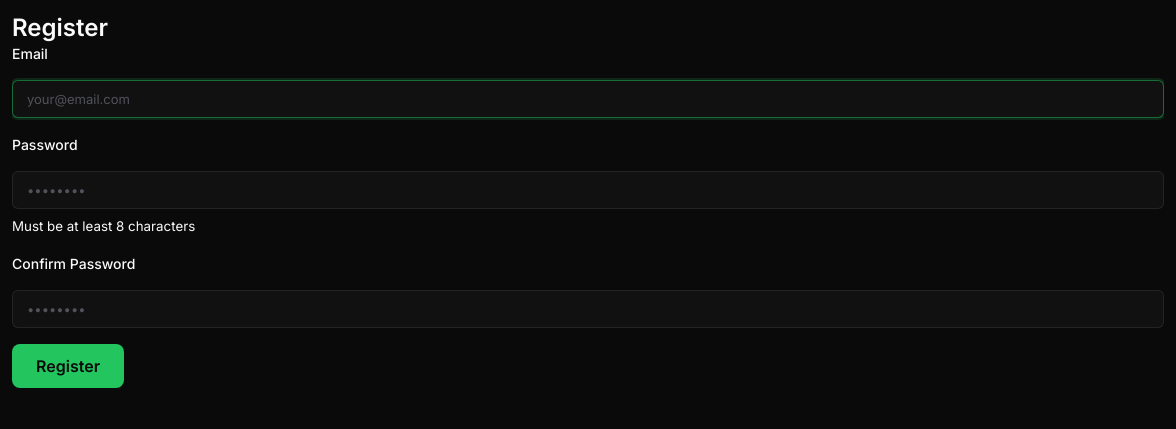
Test case: explains and focuses mismatched registration passwords without submitting them
The image size is (1176, 429).
In the field labelled "Email": (588, 99) 12,80 -> 1164,118, type "writer@example.com"
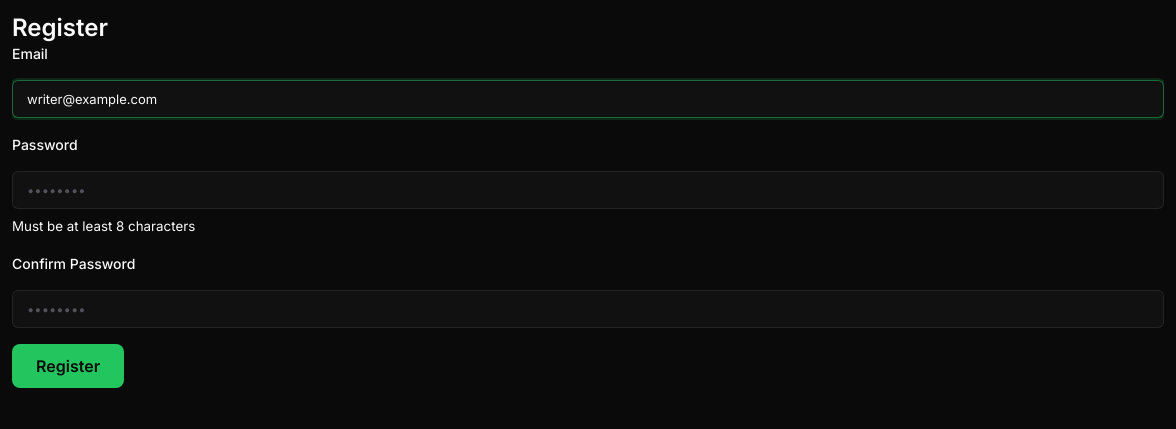
In the password field labelled "Password": (588, 190) 12,171 -> 1164,209, type "test-password"
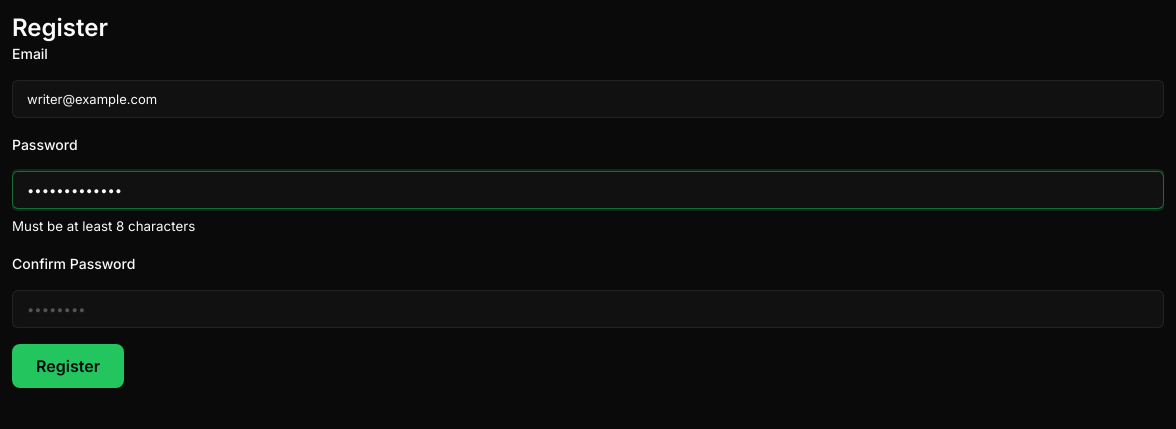
In the password field labelled "Confirm Password": (588, 309) 12,290 -> 1164,328, type "different-password"
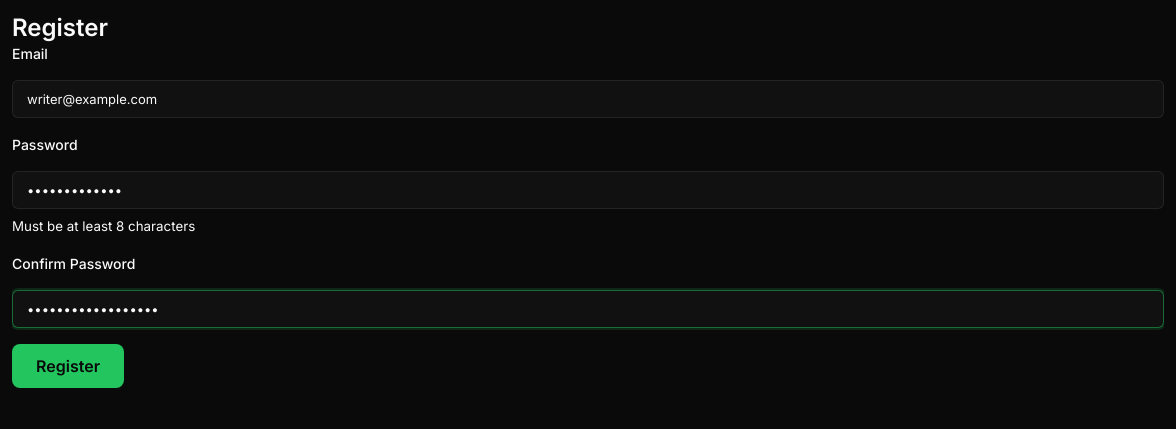
Press Enter
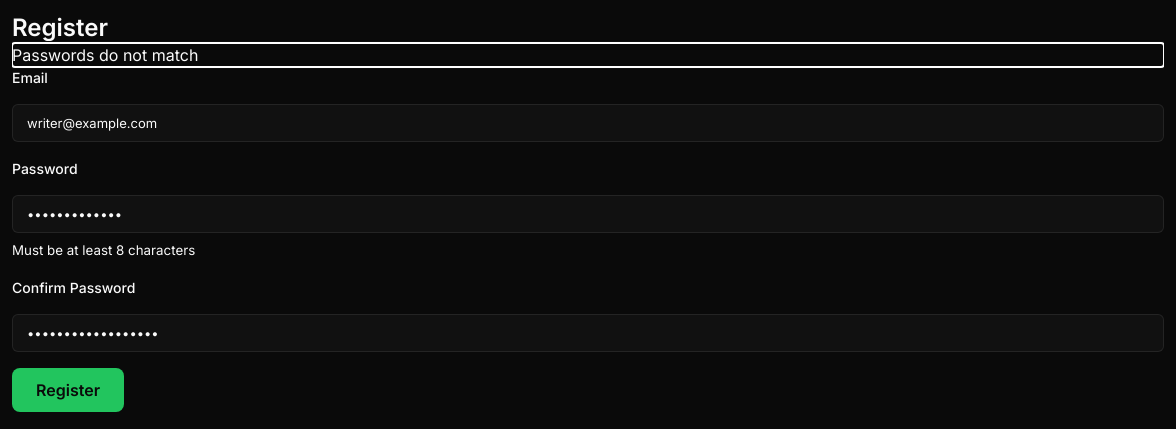
Result: the message reads "Passwords do not match" at 12,45 -> 198,65
